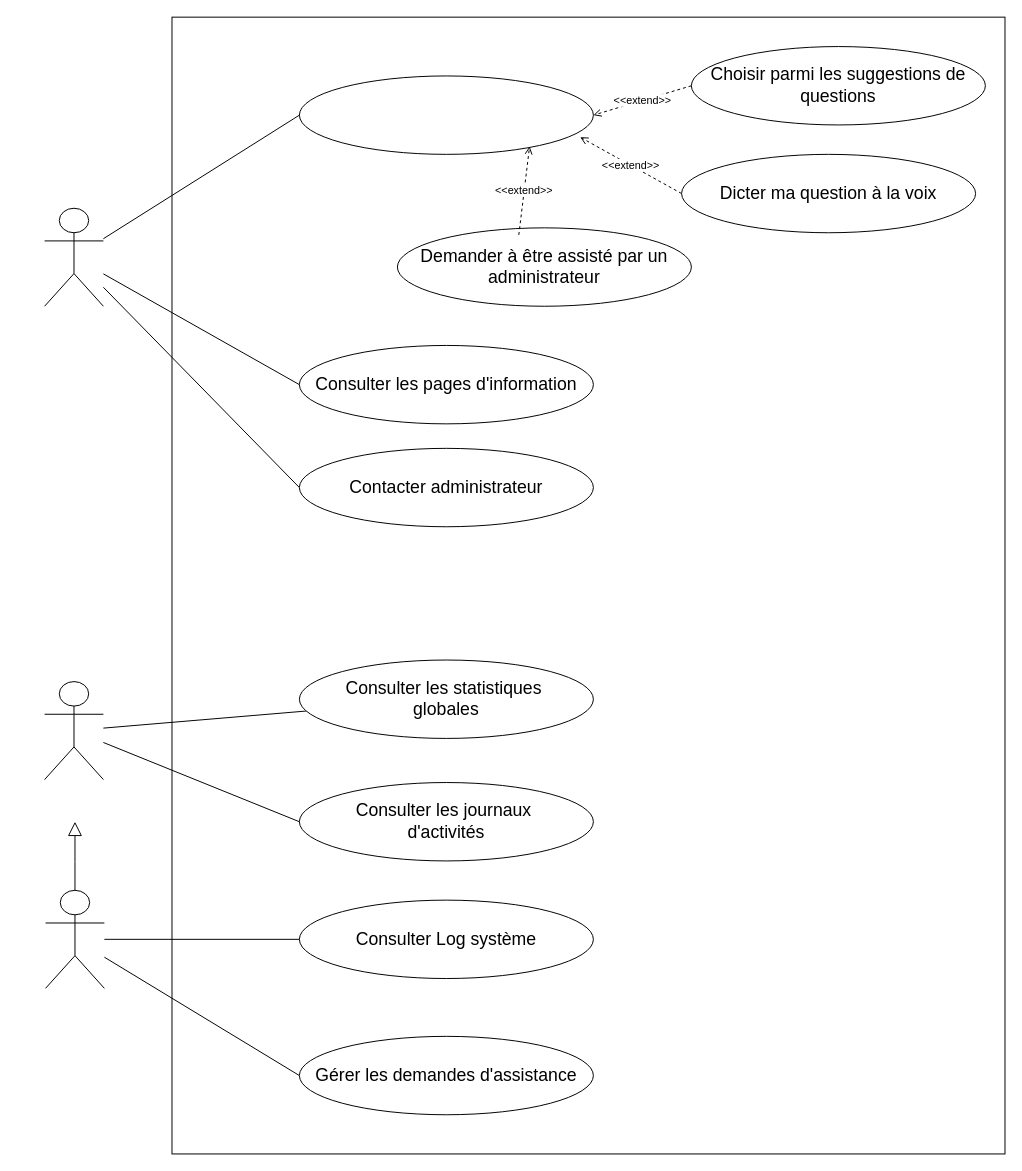
This 1022x1171 diagram has some shape labels left out. Here are the shapes that lost their labels. From the top down, the centre of each, then its label:
the point at 445,114: Poser des questions à l’assistant conversationnel
the point at 73,256: Internaute
the point at 73,730: Administrateur
the point at 74,938: Administrateur Système
